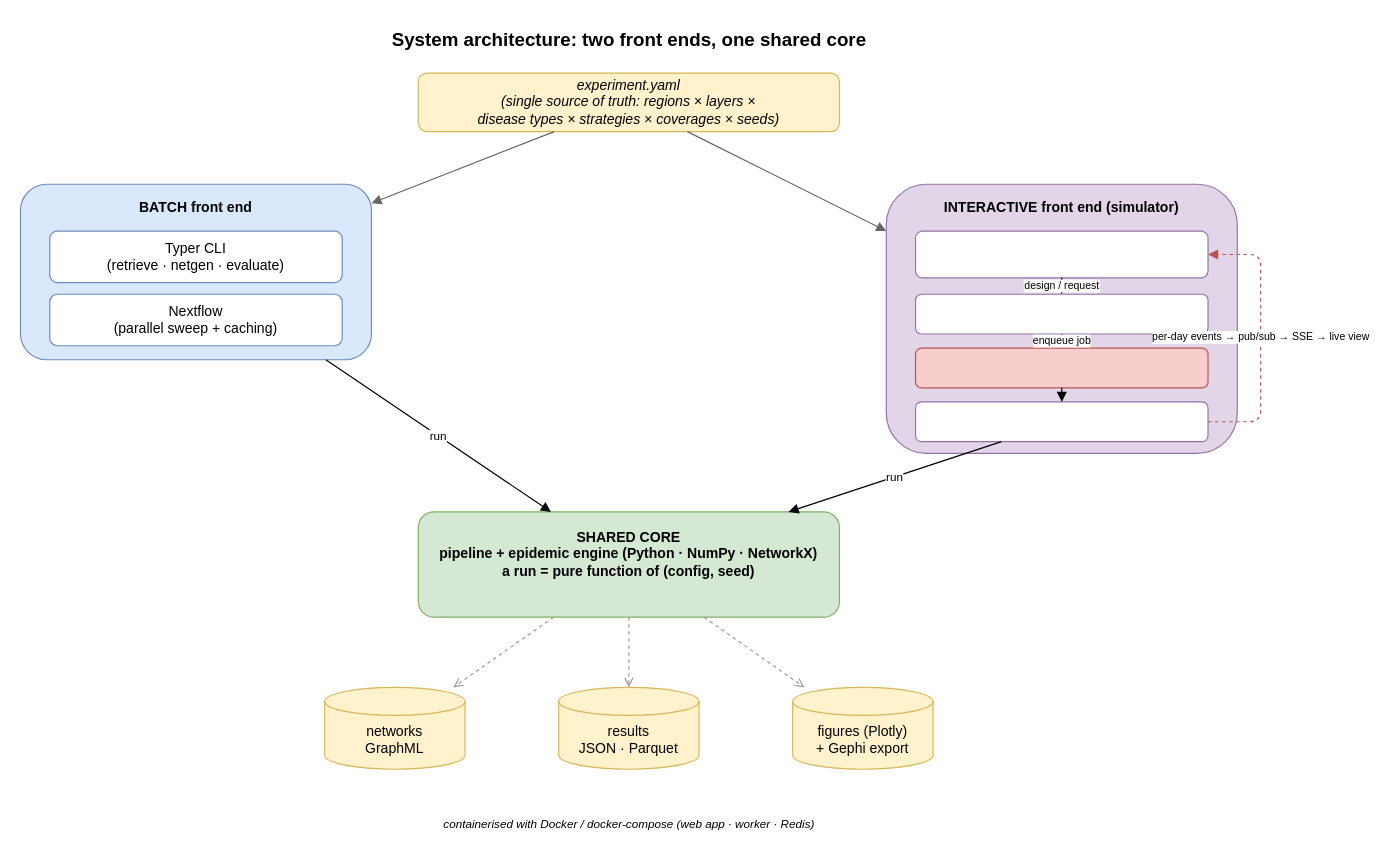
This 1390x853 diagram has some shape labels left out. Each missing label, with the centre of its shape:
arq worker (runs one sim): point 1061,421
Browser (design scenario · live curve + map): point 1061,254
FastAPI + Uvicorn: point 1061,313
Redis (arq job queue + pub/sub): point 1061,367
